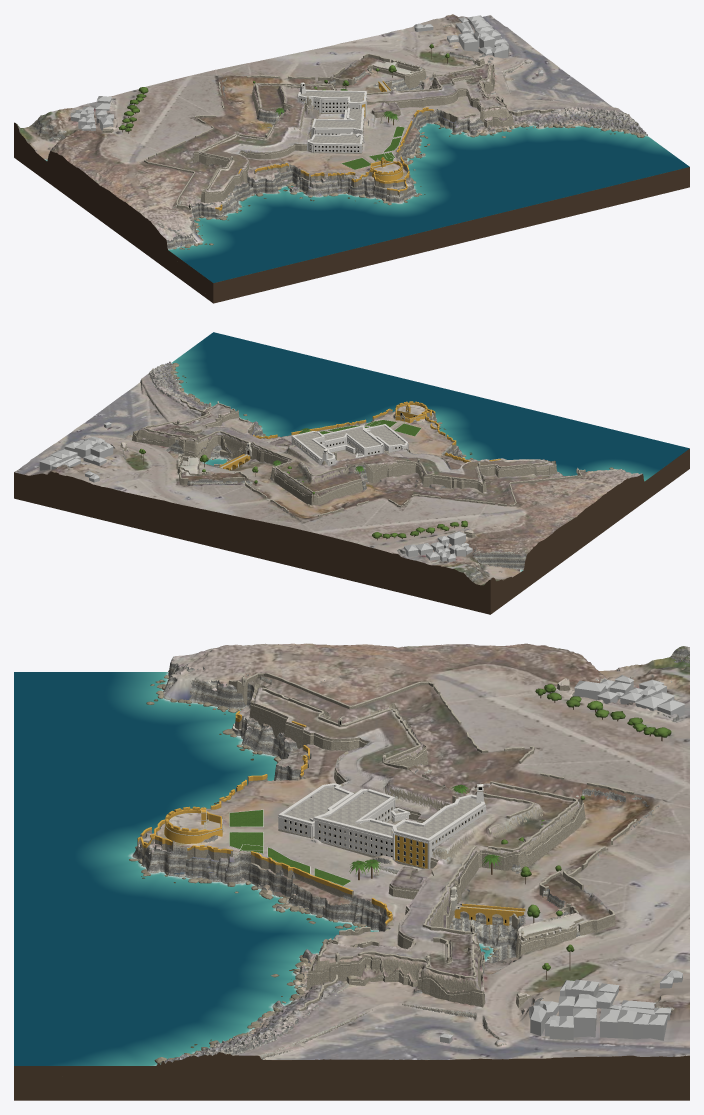
The model's file is peniche.glb.
3 renders of one model, top to bottom at view 1: azimuth 30°, elevation 25°; view 2: azimuth 150°, elevation 25°; view 3: azimuth 270°, elevation 25°, orthographic. The views are drawn at different scales.
Visible parts, largest first — view 1: Terreno, Terreno_mar, Base, Muralhas, Terreno_rocha, Parapeitos, Casario, Edificios_prisao, Rochedos, Vegetacao, Relvados, Fortim_Redondo; view 2: Terreno, Terreno_mar, Base, Muralhas, Parapeitos, Terreno_rocha, Casario, Edificios_prisao, Vegetacao, Fortim_Redondo, Relvados; view 3: Terreno, Terreno_mar, Muralhas, Base, Terreno_rocha, Parapeitos, Casario, Edificios_prisao, Rochedos, Vegetacao, Relvados, Fortim_Redondo (+1 smaller).
Boxes of the visible parts, x1=… form: Terreno: x1=14, y1=14, x2=644, y2=246; Terreno_mar: x1=44, y1=123, x2=689, y2=282; Base: x1=14, y1=120, x2=689, y2=303; Muralhas: x1=102, y1=57, x2=513, y2=202; Terreno_rocha: x1=17, y1=19, x2=647, y2=249; Parapeitos: x1=144, y1=53, x2=554, y2=215; Casario: x1=70, y1=15, x2=543, y2=130; Edificios_prisao: x1=297, y1=82, x2=383, y2=153; Rochedos: x1=172, y1=121, x2=644, y2=249; Vegetacao: x1=118, y1=44, x2=449, y2=133; Relvados: x1=341, y1=126, x2=404, y2=169; Fortim_Redondo: x1=370, y1=157, x2=403, y2=181; Terreno: x1=14, y1=362, x2=642, y2=585; Terreno_mar: x1=171, y1=332, x2=689, y2=571; Base: x1=14, y1=448, x2=689, y2=614; Muralhas: x1=120, y1=403, x2=557, y2=537; Parapeitos: x1=142, y1=398, x2=585, y2=516; Terreno_rocha: x1=56, y1=361, x2=643, y2=582; Casario: x1=39, y1=422, x2=472, y2=562; Edificios_prisao: x1=291, y1=424, x2=408, y2=465; Vegetacao: x1=139, y1=428, x2=467, y2=540; Fortim_Redondo: x1=395, y1=401, x2=427, y2=422; Relvados: x1=319, y1=419, x2=421, y2=436; Terreno: x1=138, y1=643, x2=689, y2=1062; Terreno_mar: x1=14, y1=672, x2=493, y2=1065; Muralhas: x1=249, y1=678, x2=585, y2=1007; Base: x1=14, y1=660, x2=689, y2=1100; Terreno_rocha: x1=132, y1=647, x2=689, y2=1064; Parapeitos: x1=137, y1=673, x2=636, y2=1010; Casario: x1=439, y1=675, x2=685, y2=1043; Edificios_prisao: x1=278, y1=783, x2=485, y2=875; Rochedos: x1=129, y1=675, x2=497, y2=1063; Vegetacao: x1=349, y1=684, x2=671, y2=979; Relvados: x1=229, y1=809, x2=351, y2=886; Fortim_Redondo: x1=164, y1=806, x2=223, y2=843.
Bounding box in the file's own units: 400 × 52.33 × 290.
23 materials, 11 textured.
